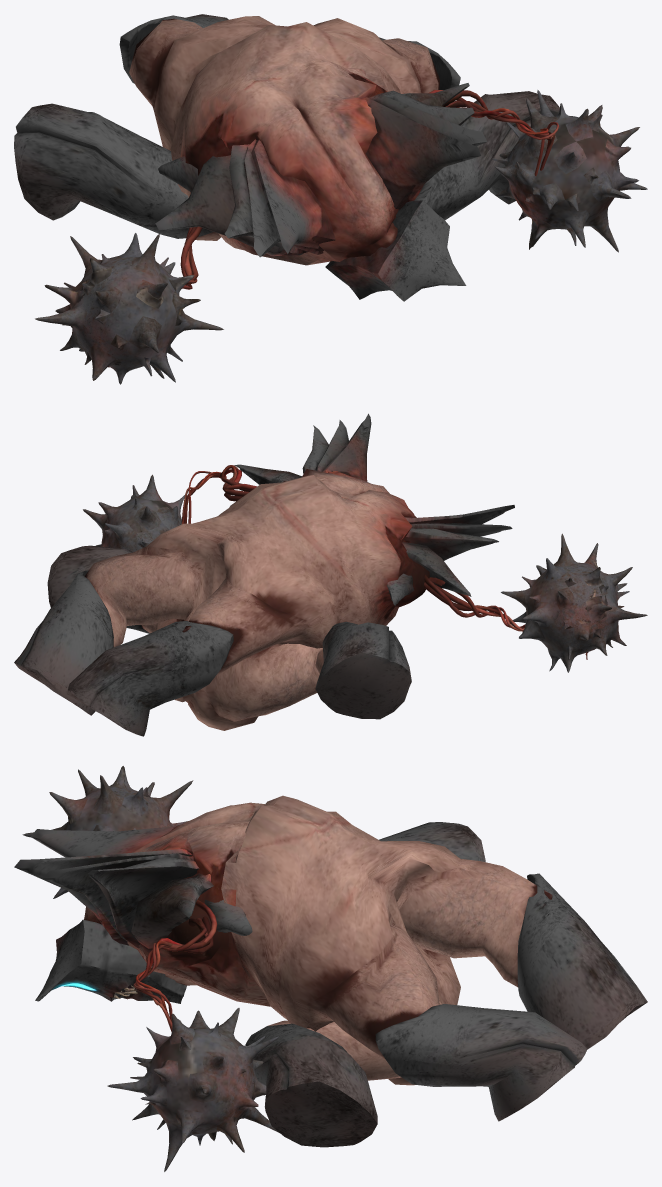
File: FatGuyDead2.fbx
The picture shows the model from 3 angles, top to bottom: view 1: azimuth 30°, elevation 25°; view 2: azimuth 150°, elevation 25°; view 3: azimuth 270°, elevation 25°; orthographic projection. The views are drawn at different scales.
Parts seen in each view (by area): view 1: FatGuyDead2; view 2: FatGuyDead2; view 3: FatGuyDead2.
Boxes of the visible parts, bbox=[...] form: FatGuyDead2: bbox=[14, 14, 647, 384]; FatGuyDead2: bbox=[14, 413, 647, 736]; FatGuyDead2: bbox=[14, 766, 647, 1171].
Bounding box in the file's own units: 5.34 × 2.02 × 4.57.
